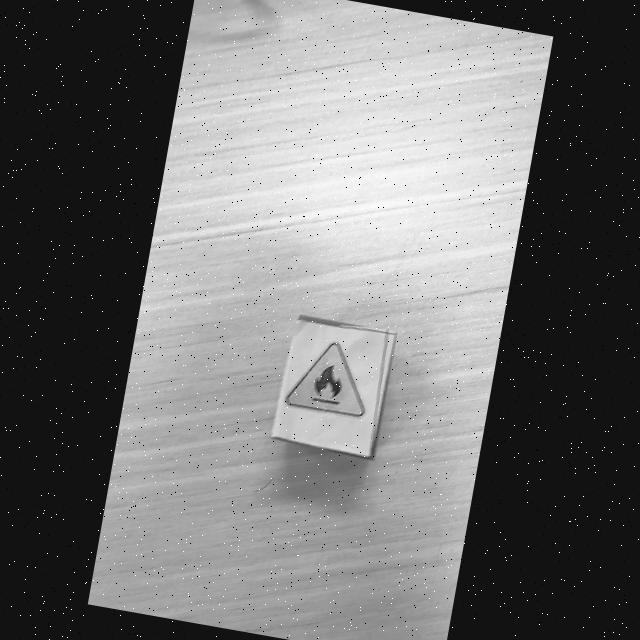Fire: (284, 342, 365, 417)
